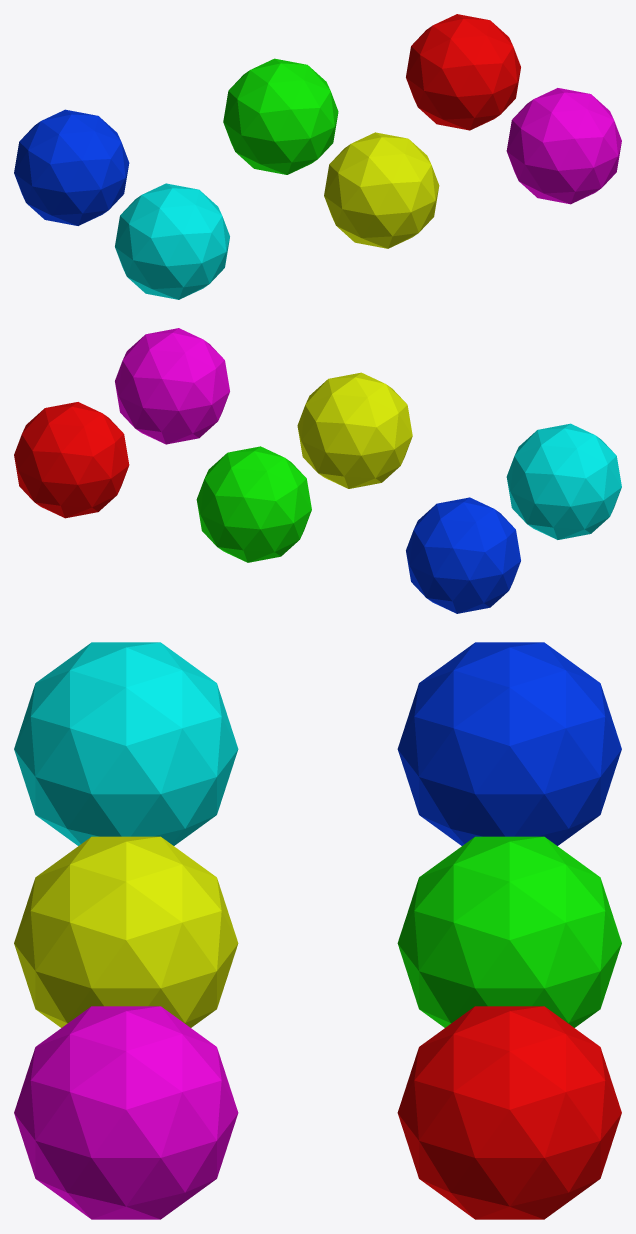
Rendered from rowsofspheres.gltf.
3 views of the same model, one above another, from view 1: azimuth 30°, elevation 25°; view 2: azimuth 150°, elevation 25°; view 3: azimuth 270°, elevation 25° (orthographic). The views are drawn at different scales.
Parts seen in each view (by area): view 1: Red, Cyan, Yellow, Green, Blue, Magenta; view 2: Blue, Magenta, Green, Yellow, Red, Cyan; view 3: Red, Magenta, Blue, Cyan, Green, Yellow.
Part boxes in pixels (x1,y1,x2,y2): Red: (406,14,520,130); Cyan: (115,183,229,299); Yellow: (324,132,439,248); Green: (223,58,338,174); Blue: (14,109,129,225); Magenta: (506,88,621,204); Blue: (406,497,520,613); Magenta: (115,328,229,444); Green: (196,446,311,562); Yellow: (297,372,412,488); Red: (14,402,129,518); Cyan: (506,423,621,539); Red: (397,1006,621,1219); Magenta: (14,1006,238,1219); Blue: (397,642,621,845); Cyan: (14,642,238,845); Green: (397,836,621,1027); Yellow: (14,836,238,1027).
Size of the model in its own units: 9.57 by 2 by 5.42.
